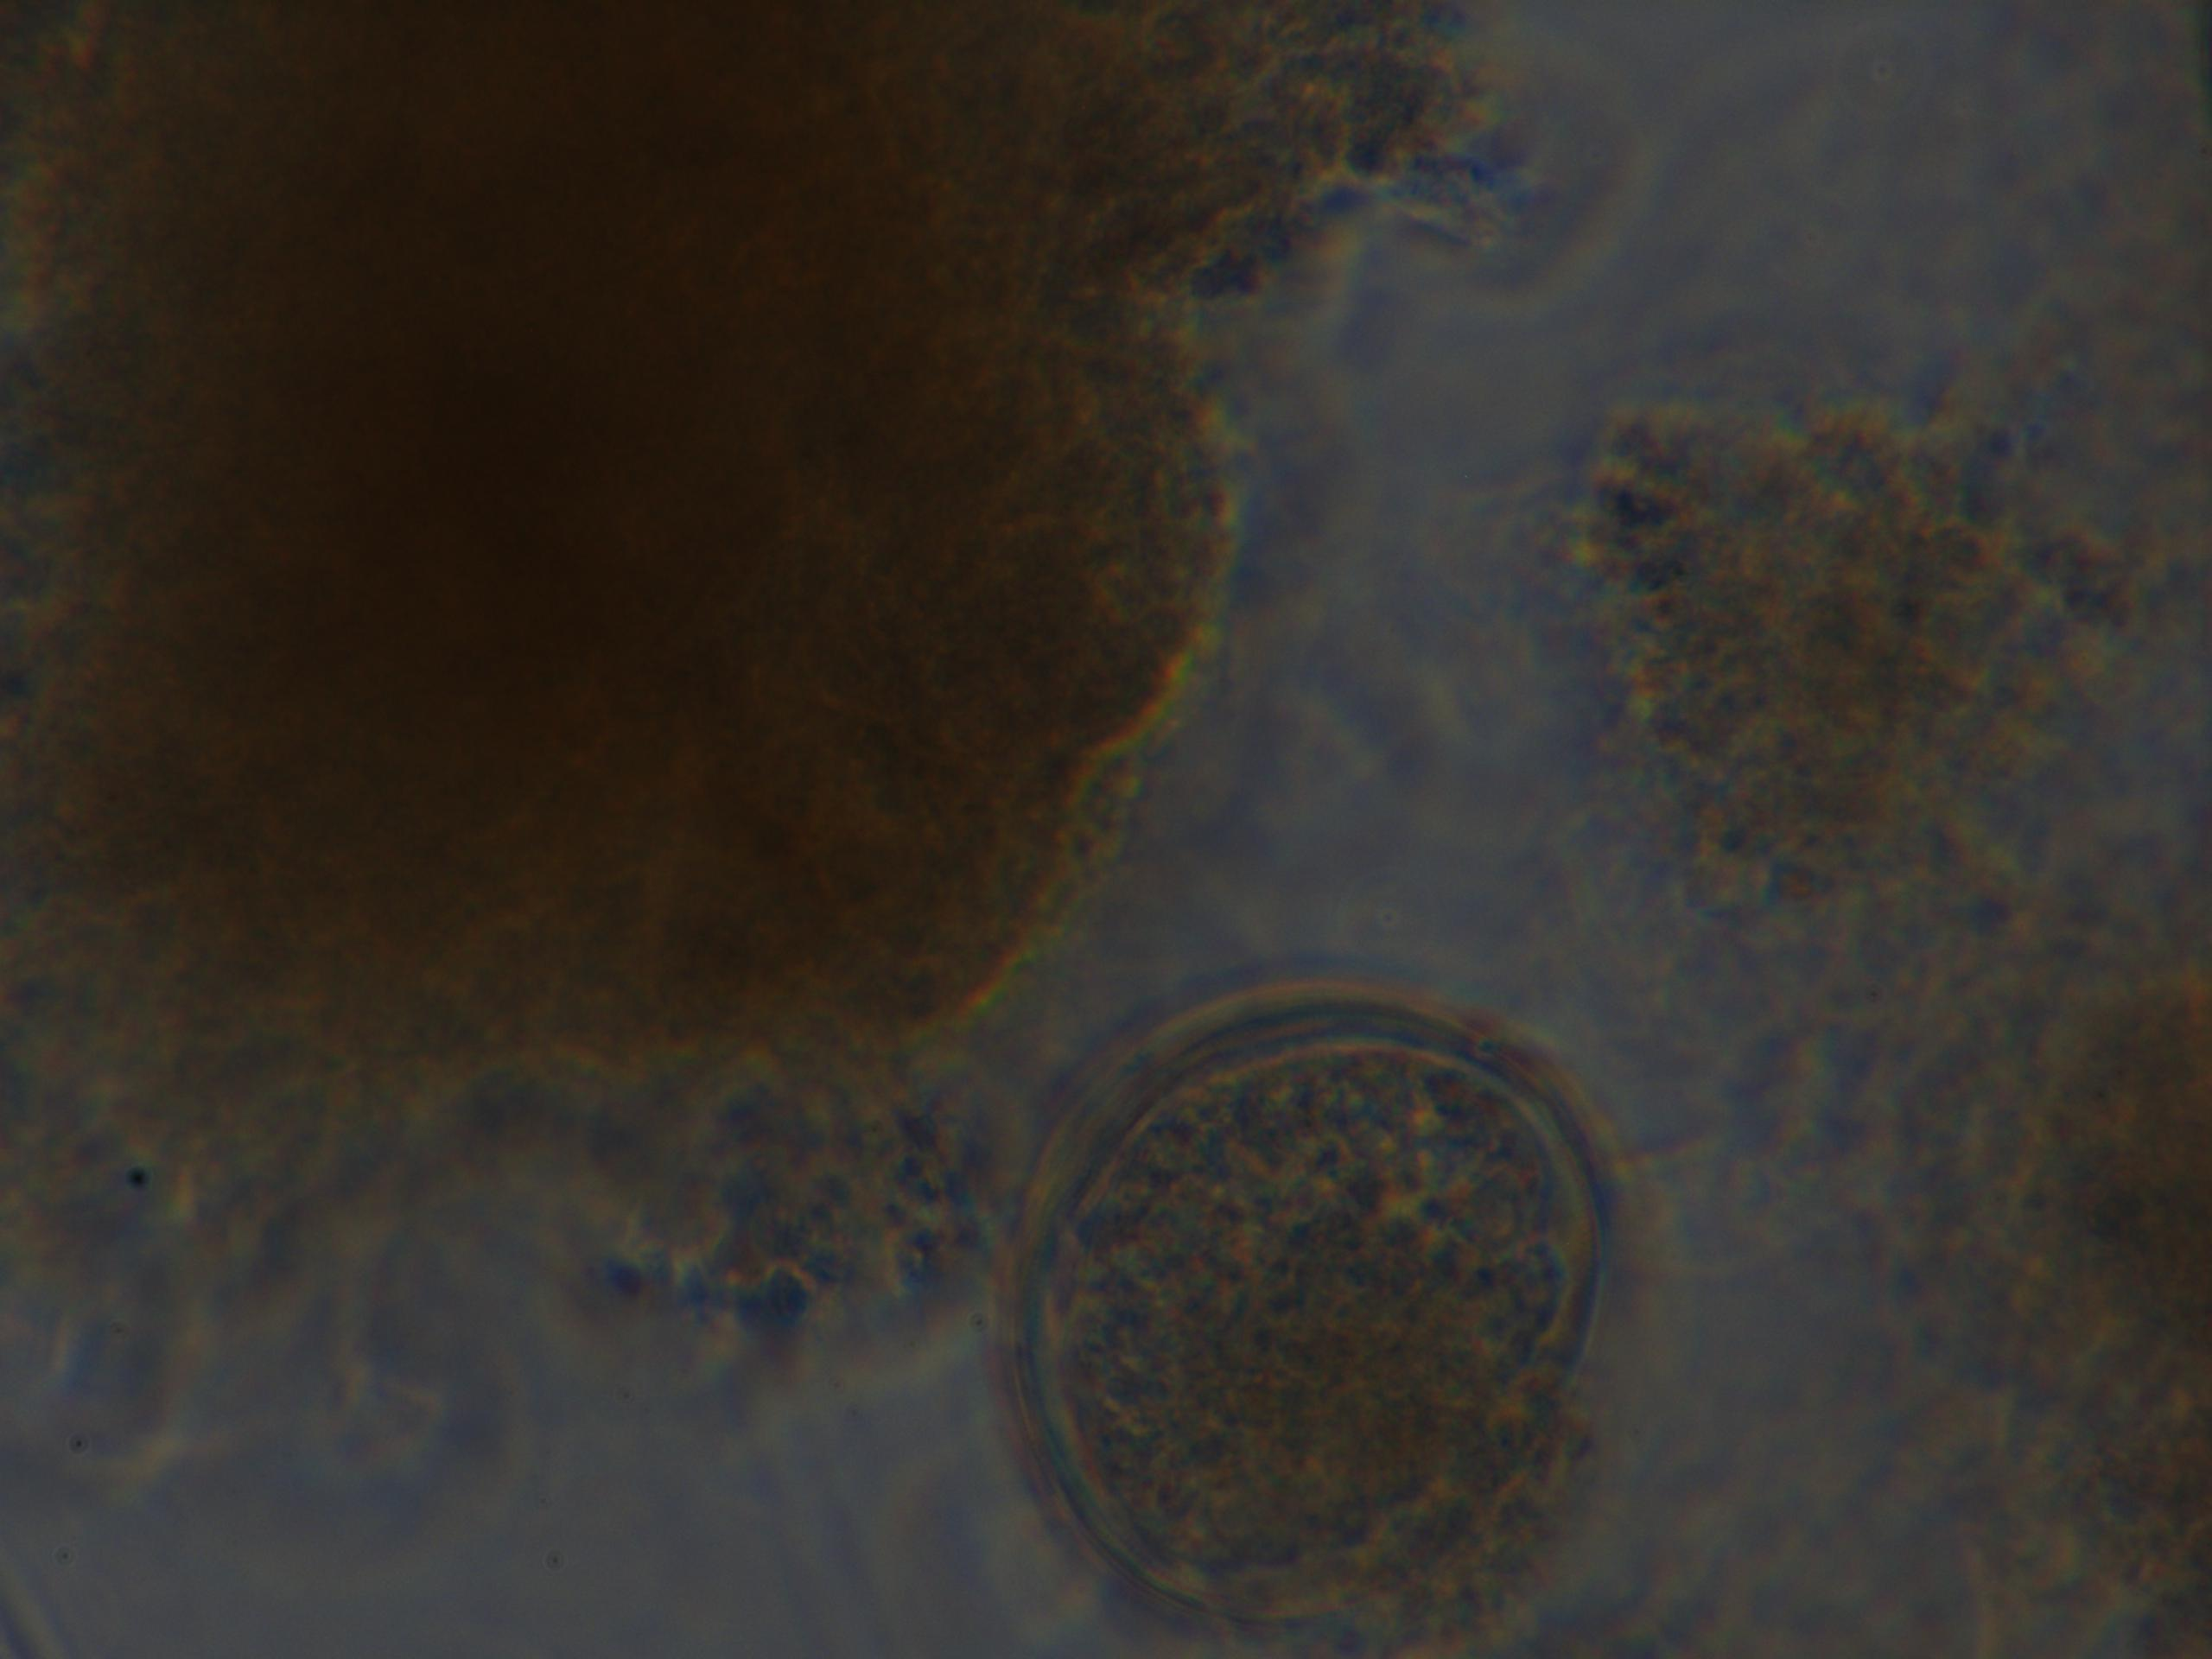protozoa: (996, 979, 1656, 1645)
spherical_floc: (0, 3, 1439, 1114)
